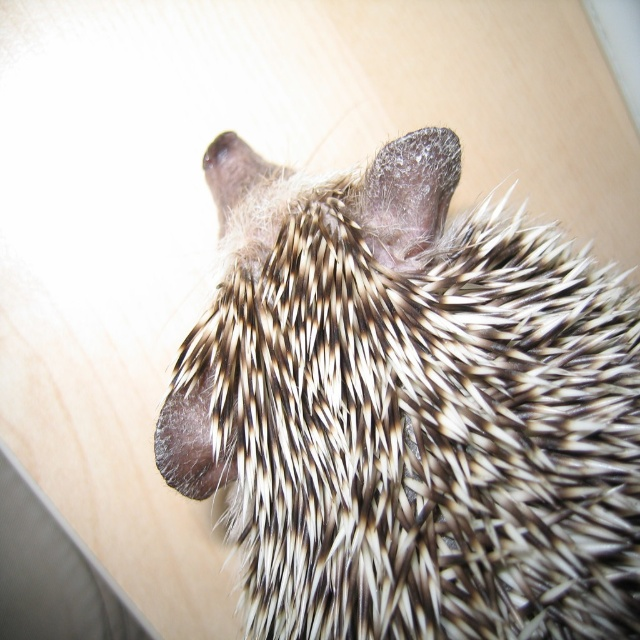Hedgehog: (151, 103, 640, 639)
